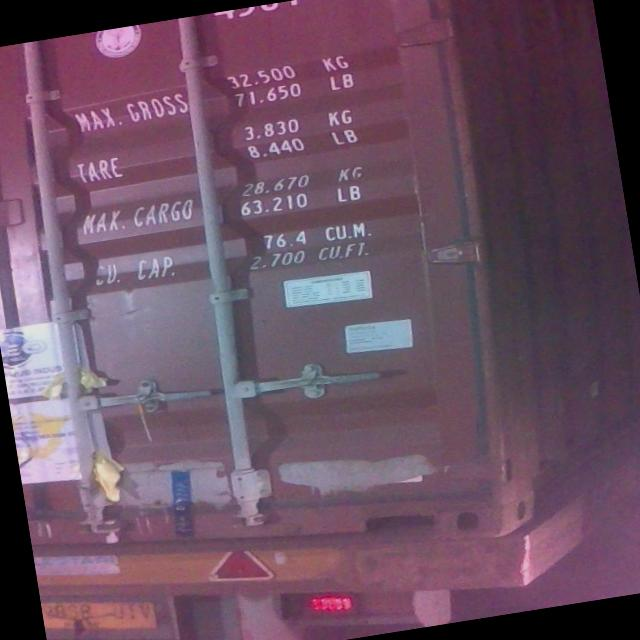seal: (132, 392, 162, 438), (96, 514, 125, 547)
